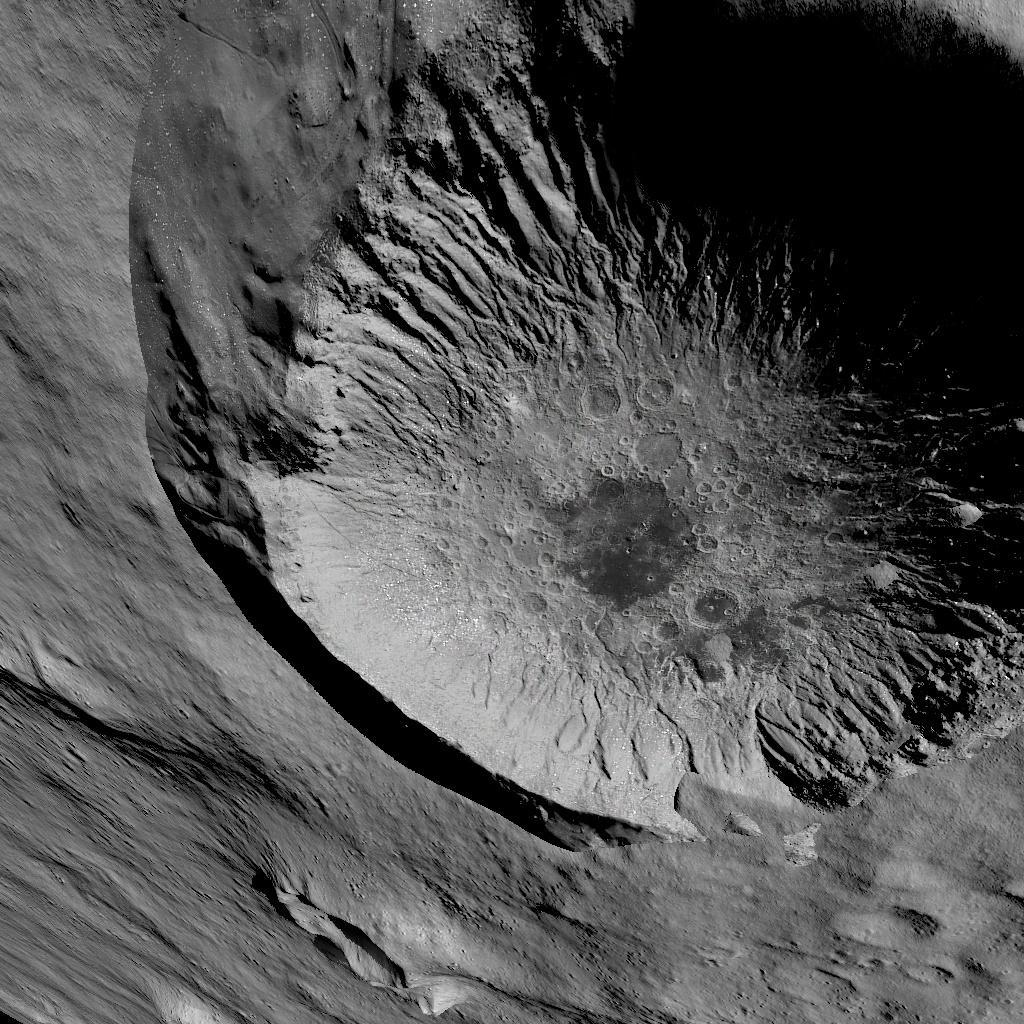Crater: (112, 2, 1023, 848), (234, 861, 428, 1011)
Plan surface: (480, 883, 1024, 1024)
